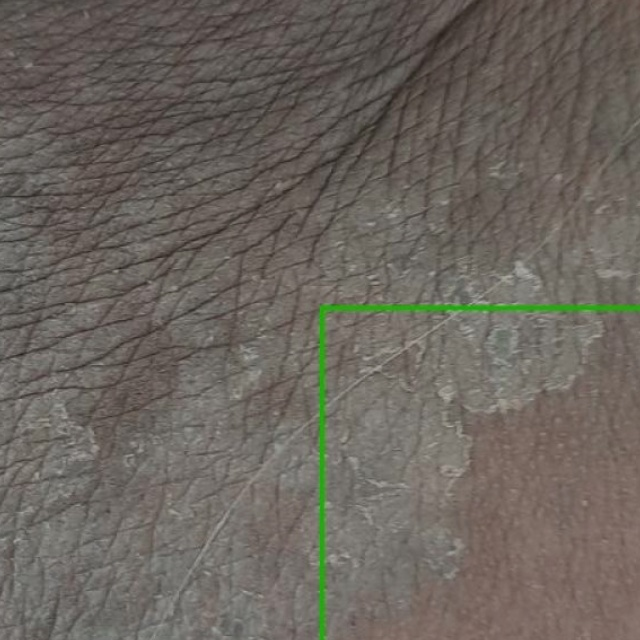Eczema: (321, 307, 639, 639)
